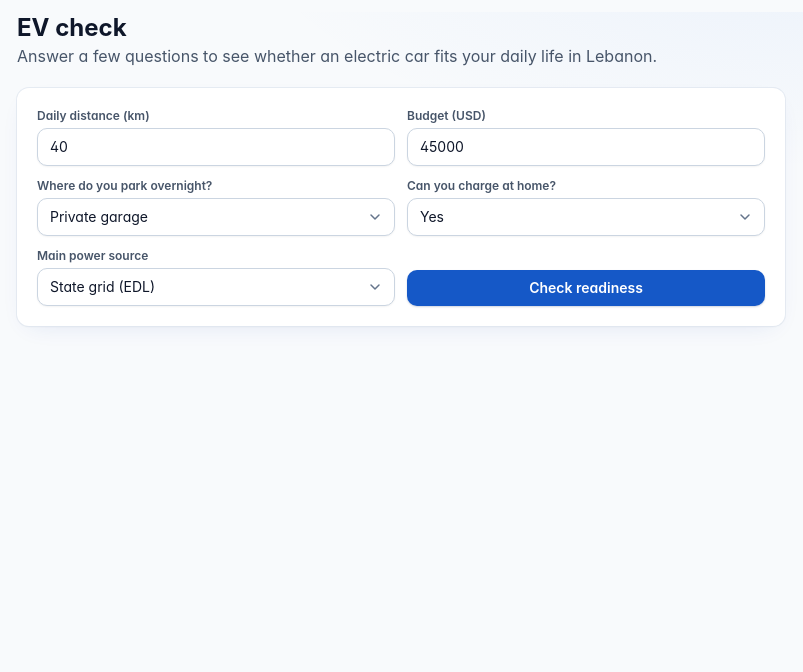
FR-EV-01 EV check form › posts the answers and shows the result with reasons
The image size is (803, 672).
Replace the text in the number field labelled "Daily distance (km)" with "60" at (216, 147), box [37, 128, 395, 166]
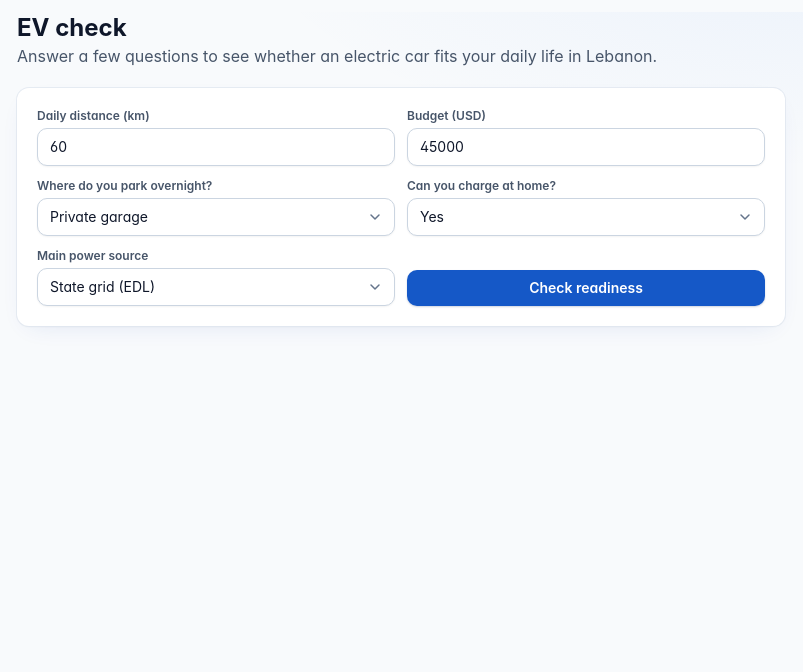
Replace the text in the number field labelled "Budget (USD)" with "50000" at (586, 147), box [407, 128, 765, 166]
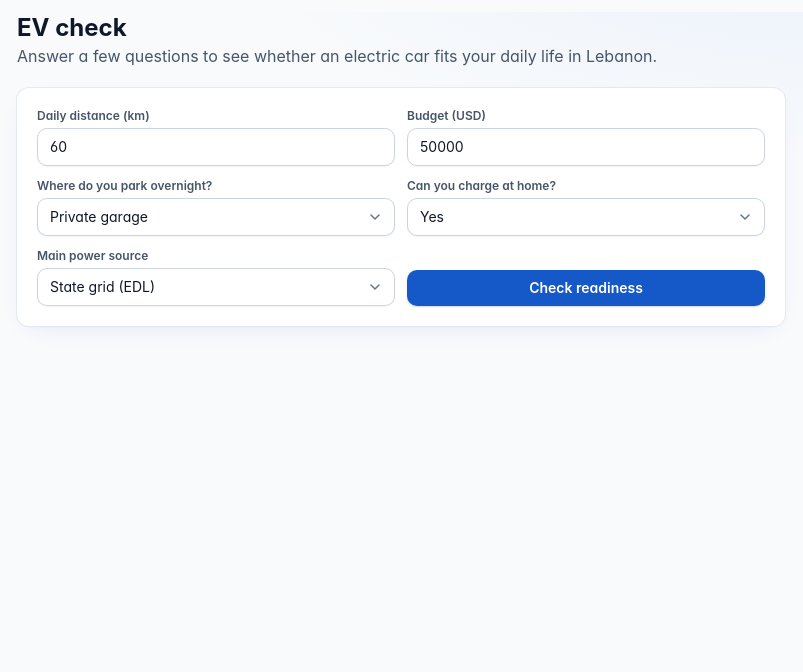
Submit the form, box [17, 88, 785, 326]
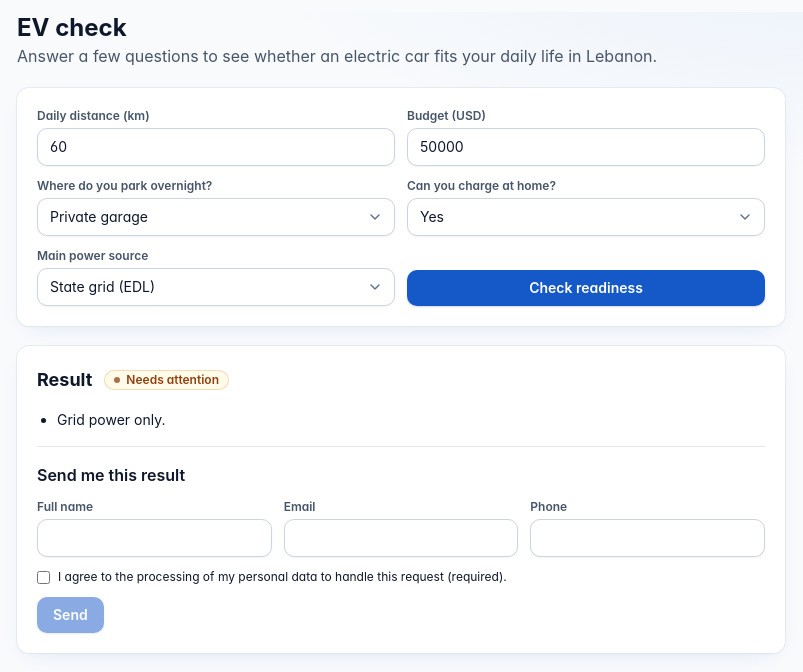
Expected: the text "Needs attention" is shown, [104, 370, 229, 390]
Expected: the list item "Grid power only." is shown, [57, 411, 166, 428]
